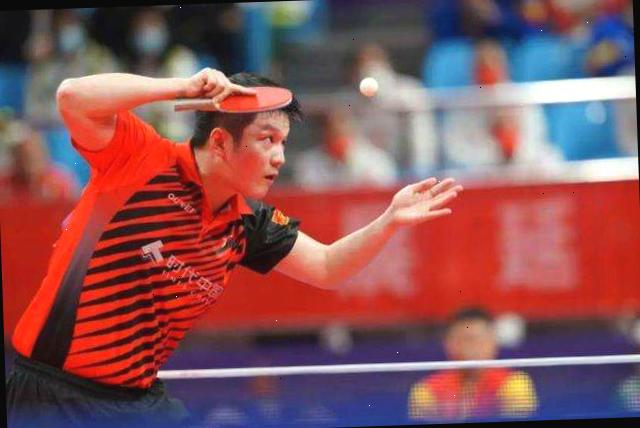ball: (356, 74, 380, 98)
